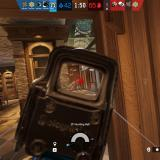Character: (76, 78, 82, 92)
Friend_label: (140, 74, 150, 80)
